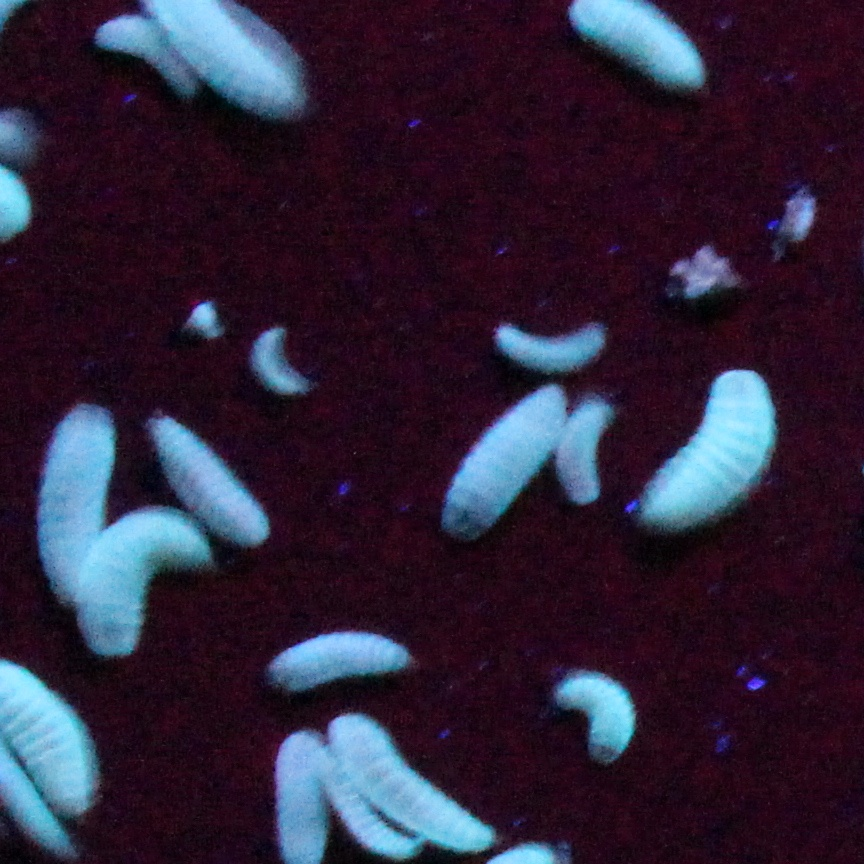larve: (637, 372, 780, 523), (338, 726, 486, 852), (442, 386, 560, 535), (154, 416, 272, 544), (100, 517, 201, 649), (37, 408, 94, 581), (555, 667, 633, 766), (267, 631, 407, 683), (93, 21, 189, 87), (490, 323, 609, 370), (245, 322, 312, 400), (563, 395, 610, 506)
